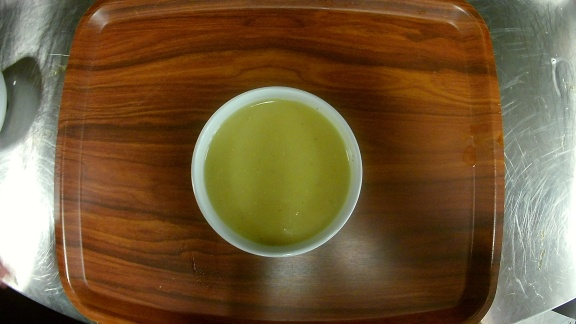mercimek: (188, 85, 364, 259)
